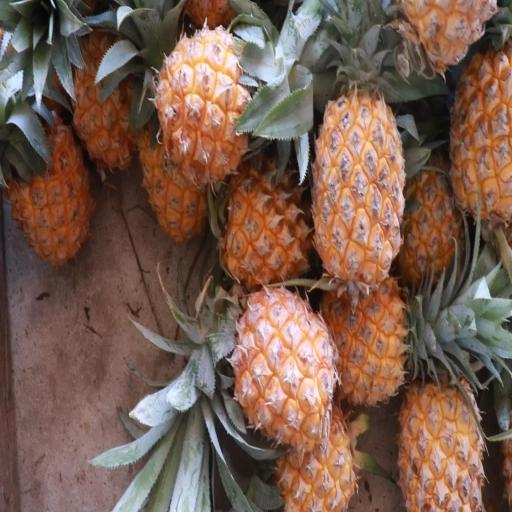Pineapple - v8 v1: (310, 84, 406, 294), (232, 284, 341, 458), (153, 23, 258, 186), (2, 103, 97, 271), (316, 272, 408, 414), (221, 160, 320, 291), (396, 372, 486, 512), (448, 46, 512, 233), (68, 26, 147, 172), (269, 416, 359, 512)
